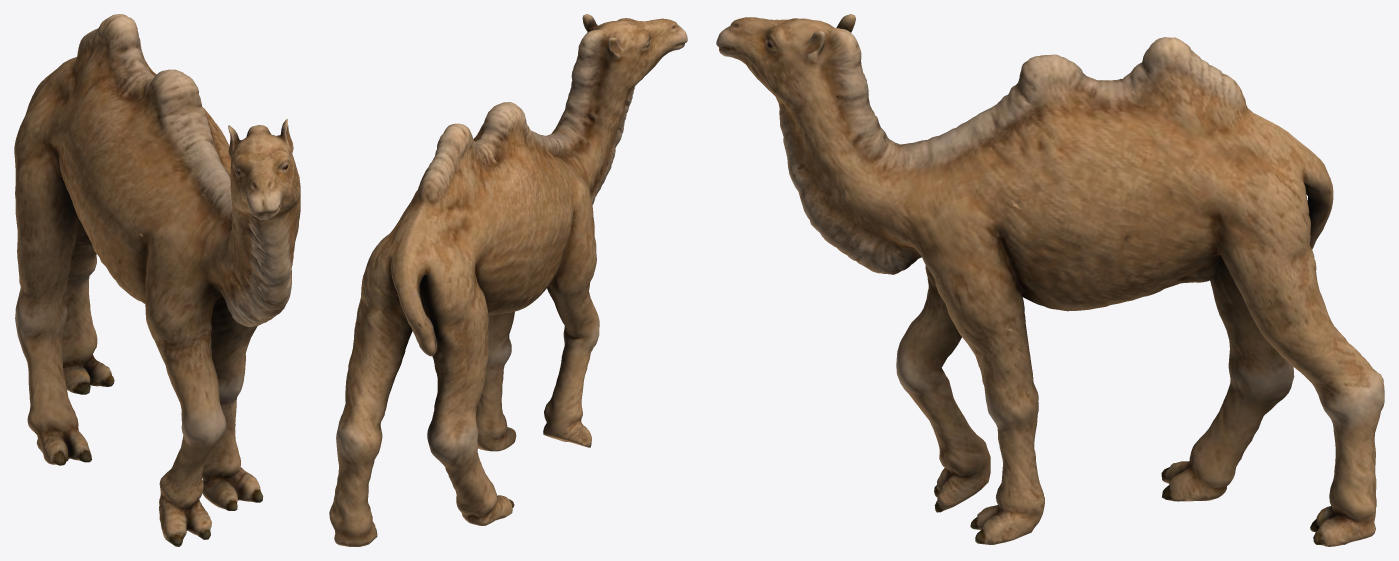
The model's file is MZ4250 - Camel.glb.
3 views of the same model, side by side, from view 1: azimuth 30°, elevation 25°; view 2: azimuth 150°, elevation 25°; view 3: azimuth 270°, elevation 25° (orthographic). The views are drawn at different scales.
Parts seen in each view (by area): view 1: Camel t.001; view 2: Camel t.001; view 3: Camel t.001.
Boxes of the visible parts, box(x1,y1,x2,y2) form: Camel t.001: box(14, 14, 300, 546); Camel t.001: box(329, 14, 687, 546); Camel t.001: box(716, 14, 1384, 546).
Size of the model in its own units: 0.3257 by 1.03 by 1.25.
1 material, 1 textured.
